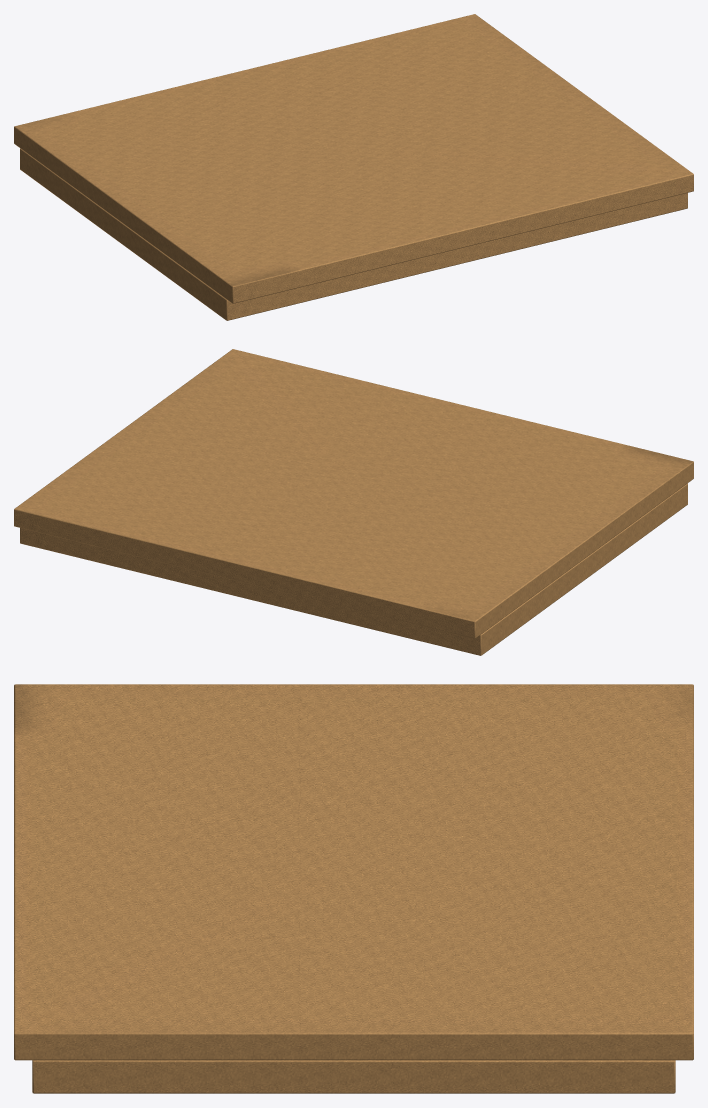
File: 6-top-box-lid-left.fbx
3 views of the same model, one above another, from view 1: azimuth 30°, elevation 25°; view 2: azimuth 150°, elevation 25°; view 3: azimuth 270°, elevation 25° (orthographic). The views are drawn at different scales.
Parts seen in each view (by area): view 1: top-box-lid-left; view 2: top-box-lid-left; view 3: top-box-lid-left.
Part boxes in pixels (x1=…): top-box-lid-left: x1=14, y1=14, x2=693, y2=320; top-box-lid-left: x1=14, y1=349, x2=693, y2=655; top-box-lid-left: x1=14, y1=684, x2=693, y2=1093.
Bounding box in the file's own units: 9000 × 730 × 7400.
1 material, 1 textured.
